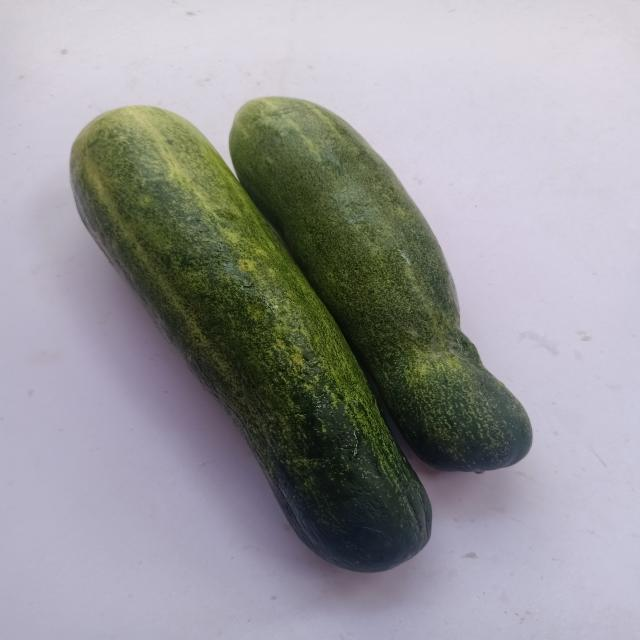Cucumber: (69, 105, 431, 573), (229, 96, 532, 473)
